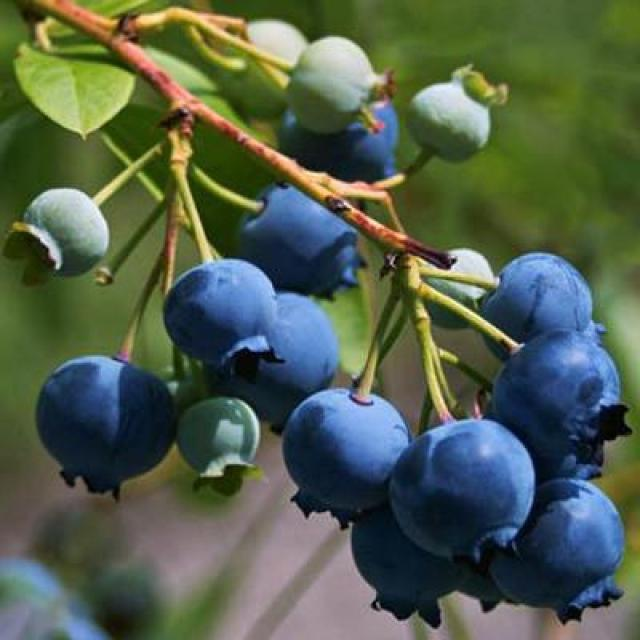BlueBerry - v1: (382, 408, 544, 571), (28, 349, 185, 510), (483, 324, 637, 486), (486, 471, 636, 634), (270, 381, 418, 528), (334, 488, 480, 634), (210, 288, 352, 437), (232, 171, 374, 309), (156, 250, 286, 382), (467, 245, 616, 360), (267, 94, 410, 194), (283, 26, 408, 138), (406, 56, 516, 168), (10, 179, 114, 293), (180, 394, 270, 507), (418, 238, 508, 334)
